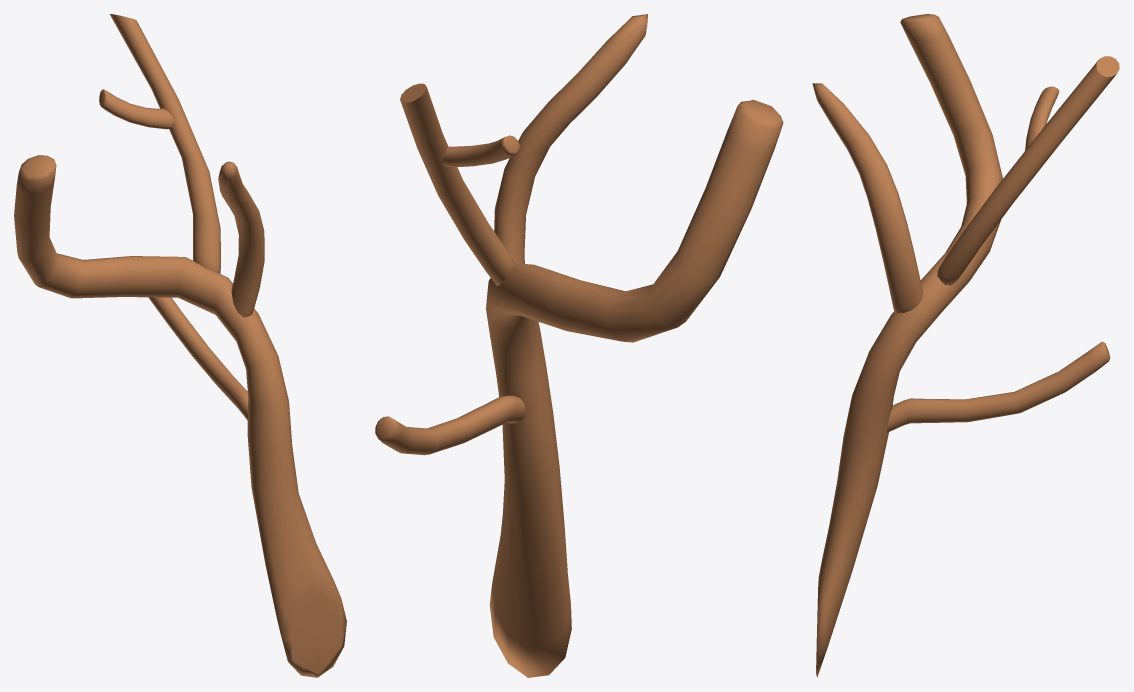
The model's file is TreeDesert3.fbx.
The picture shows the model from 3 angles, left to right: view 1: azimuth 30°, elevation 25°; view 2: azimuth 150°, elevation 25°; view 3: azimuth 270°, elevation 25°; orthographic projection. The views are drawn at different scales.
Visible parts, largest first — view 1: Tree; view 2: Tree; view 3: Tree.
Part boxes in pixels (x1,y1,x2,y2): Tree: (14,14,346,677); Tree: (375,14,783,677); Tree: (812,14,1119,677).
Size of the model in its own units: 706 by 1412 by 665.
